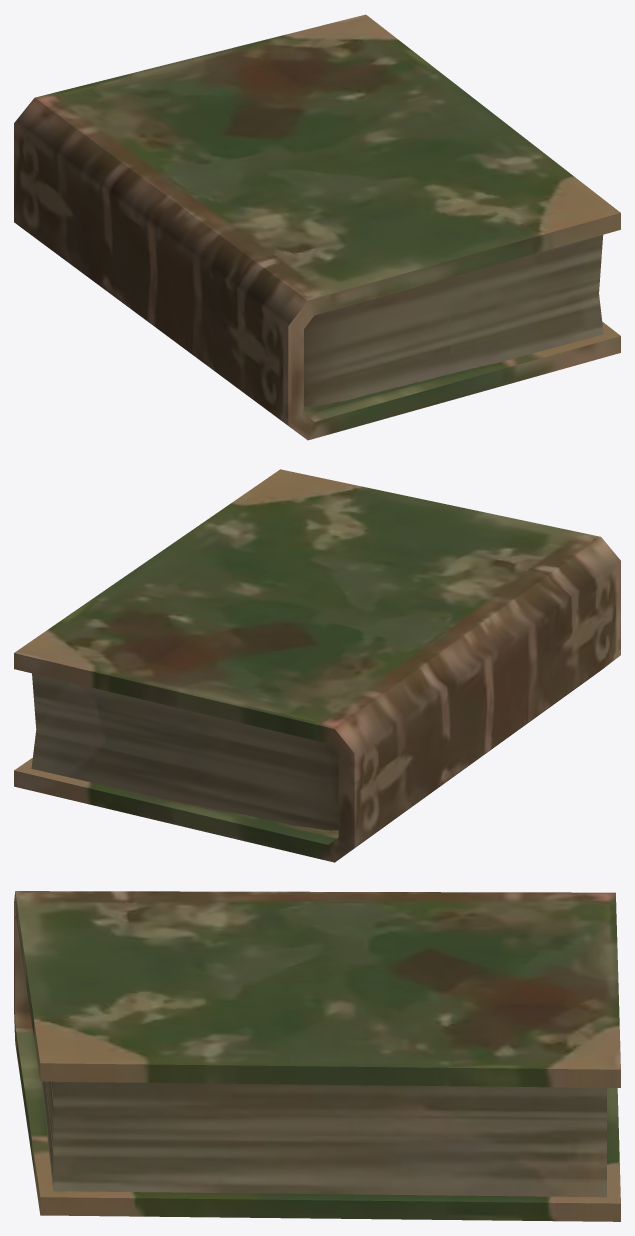
The picture shows the model from 3 angles, top to bottom: view 1: azimuth 30°, elevation 25°; view 2: azimuth 150°, elevation 25°; view 3: azimuth 270°, elevation 25°; orthographic projection. The views are drawn at different scales.
Visible parts, largest first — view 1: SM_DR_Book_04_LOD0; view 2: SM_DR_Book_04_LOD0; view 3: SM_DR_Book_04_LOD0.
Boxes of the visible parts, bbox=[...] form: SM_DR_Book_04_LOD0: bbox=[14, 14, 620, 440]; SM_DR_Book_04_LOD0: bbox=[14, 469, 620, 862]; SM_DR_Book_04_LOD0: bbox=[14, 891, 620, 1221].
Bounding box in the file's own units: 0.2824 × 0.1058 × 0.3825.
1 material, 1 textured.
